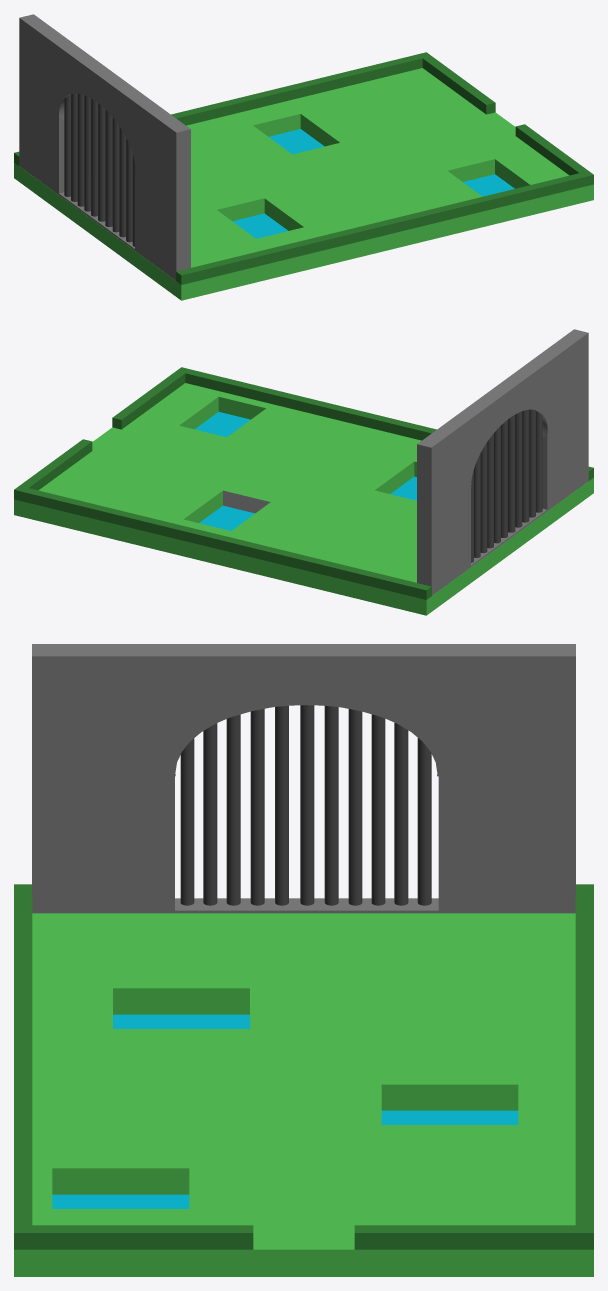
The picture shows the model from 3 angles, top to bottom: view 1: azimuth 30°, elevation 25°; view 2: azimuth 150°, elevation 25°; view 3: azimuth 270°, elevation 25°; orthographic projection. The views are drawn at different scales.
Visible parts, largest first — view 1: pCube12, pCube6, pasted__pCylinder2, pPlane1; view 2: pCube12, pCube6, pasted__pCylinder2, pPlane1; view 3: pCube12, pCube6, pasted__pCylinder2, pPlane1.
Boxes of the visible parts, x1,y1,x2,y2 form: pCube12: [14, 52, 593, 300]; pCube6: [19, 14, 190, 280]; pasted__pCylinder2: [64, 93, 135, 246]; pPlane1: [232, 129, 514, 238]; pCube12: [14, 367, 593, 615]; pCube6: [417, 329, 588, 595]; pasted__pCylinder2: [471, 409, 542, 562]; pPlane1: [195, 412, 416, 530]; pCube12: [14, 884, 593, 1276]; pCube6: [32, 644, 575, 913]; pasted__pCylinder2: [180, 705, 431, 905]; pPlane1: [52, 1014, 518, 1208].
Size of the model in its own units: 22.4 by 8.52 by 15.75.
